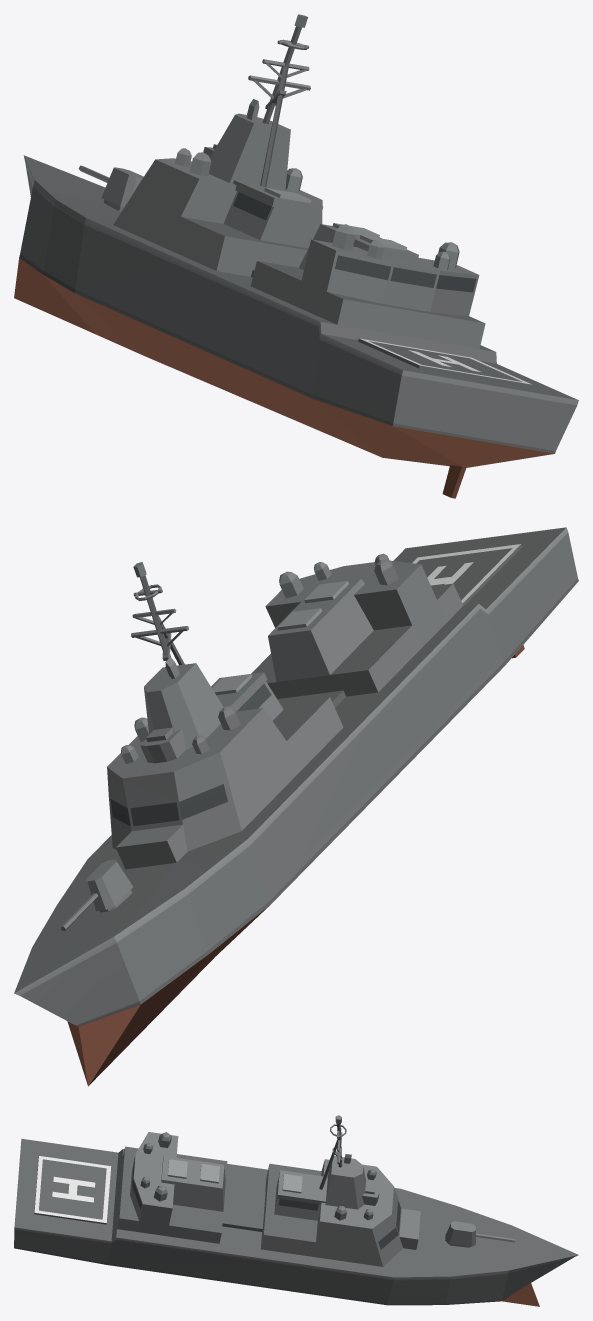
File: Эсминец (тонет).fbx
3 renders of one model, top to bottom at view 1: azimuth 30°, elevation 25°; view 2: azimuth 150°, elevation 25°; view 3: azimuth 270°, elevation 25°, orthographic. The views are drawn at different scales.
Visible parts, largest first — view 1: Эсминец1; view 2: Эсминец1; view 3: Эсминец1.
Boxes of the visible parts, x1=… form: Эсминец1: x1=14, y1=14, x2=578, y2=498; Эсминец1: x1=14, y1=527, x2=578, y2=1086; Эсминец1: x1=14, y1=1115, x2=578, y2=1306.
Bounding box in the file's own units: 0.9674 × 1.82 × 4.15.
